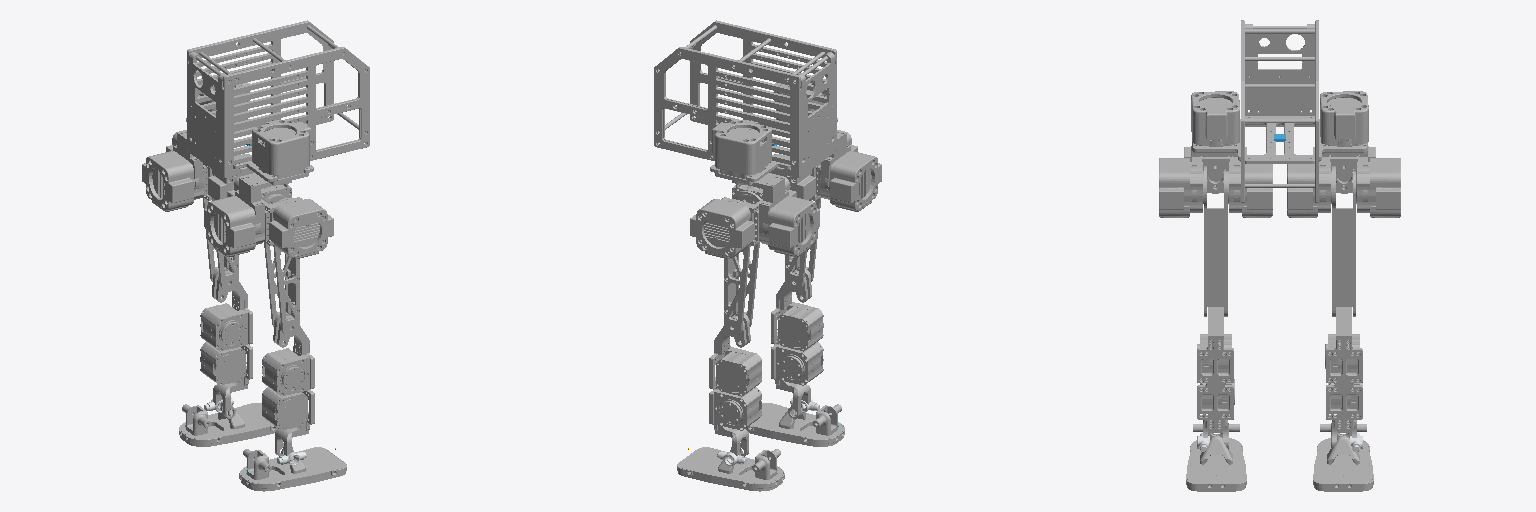
--- Render facts (derived) ---
Views: 3 orthographic renders of the robot side by side, from view 1: azimuth 30°, elevation 25°; view 2: azimuth 150°, elevation 25°; view 3: azimuth 270°, elevation 25°.
Model pai_12dof_v2_0312 with 18 links and 17 joints (10 revolute, 7 fixed), rooted at base_link, posed all joints at 0.
Links seen in each view (by area): view 1: base_link, leg_l4_link, leg_r4_link, leg_r2_link, leg_r1_link, leg_l1_link, r_ankle_roll_link, l_ankle_roll_link, leg_r3_link, leg_l2_link, leg_l3_link; view 2: base_link, leg_r4_link, leg_l4_link, leg_l2_link, leg_l1_link, leg_r1_link, l_ankle_roll_link, r_ankle_roll_link, leg_l3_link, leg_r2_link, leg_r3_link; view 3: base_link, leg_r2_link, leg_l2_link, leg_r4_link, leg_l4_link, r_ankle_roll_link, l_ankle_roll_link, leg_l3_link, leg_r3_link.
Boxes of the visible links, x1=… form: base_link: x1=186, y1=20, x2=369, y2=184; leg_l4_link: x1=200, y1=268, x2=252, y2=418; leg_r4_link: x1=262, y1=313, x2=314, y2=461; leg_r2_link: x1=227, y1=173, x2=333, y2=258; leg_r1_link: x1=204, y1=174, x2=291, y2=256; leg_l1_link: x1=142, y1=131, x2=203, y2=211; r_ankle_roll_link: x1=239, y1=447, x2=346, y2=491; l_ankle_roll_link: x1=179, y1=403, x2=277, y2=446; leg_r3_link: x1=264, y1=195, x2=299, y2=336; leg_l2_link: x1=166, y1=130, x2=254, y2=200; leg_l3_link: x1=202, y1=196, x2=238, y2=291; base_link: x1=654, y1=20, x2=837, y2=184; leg_r4_link: x1=771, y1=268, x2=823, y2=418; leg_l4_link: x1=709, y1=313, x2=761, y2=461; leg_l2_link: x1=690, y1=173, x2=796, y2=258; leg_l1_link: x1=732, y1=174, x2=819, y2=256; leg_r1_link: x1=820, y1=131, x2=881, y2=211; l_ankle_roll_link: x1=677, y1=447, x2=784, y2=491; r_ankle_roll_link: x1=746, y1=403, x2=844, y2=446; leg_l3_link: x1=724, y1=190, x2=761, y2=336; leg_r2_link: x1=769, y1=130, x2=857, y2=200; leg_r3_link: x1=785, y1=196, x2=821, y2=291; base_link: x1=1191, y1=20, x2=1368, y2=202; leg_r2_link: x1=1159, y1=157, x2=1272, y2=217; leg_l2_link: x1=1287, y1=157, x2=1400, y2=217; leg_r4_link: x1=1197, y1=307, x2=1234, y2=448; leg_l4_link: x1=1325, y1=307, x2=1362, y2=448; r_ankle_roll_link: x1=1186, y1=424, x2=1246, y2=491; l_ankle_roll_link: x1=1313, y1=424, x2=1373, y2=491; leg_l3_link: x1=1332, y1=166, x2=1355, y2=316; leg_r3_link: x1=1204, y1=166, x2=1227, y2=316.
Bounding box of the posed robot: 0.23 × 0.283 × 0.5417 m (x, y, z).
13 mesh visuals loaded from 13 distinct referenced files (13 binary STL).

robot.urdf — pai_12dof_v2_0312:
<?xml version="1.0" encoding="utf-8"?>
<!-- This URDF was automatically created by SolidWorks to URDF Exporter! Originally created by Stephen Brawner ([email redacted]) 
     Commit Version: 1.6.0-4-g7f85cfe  Build Version: 1.6.7995.38578
     For more information, please see http://wiki.ros.org/sw_legged_hunter_description_exporter -->
<robot
  name="pai_12dof_v2_0312">

<gazebo>
    <plugin name="gazebo_ros_control" filename="libhunter_bipedal_hw_sim.so">
      <robotNamespace>/</robotNamespace>
      <robotParam>legged_robot_description</robotParam>
      <robotSimType>legged_gazebo/LeggedHWSim</robotSimType>
    </plugin>
  </gazebo>

  <gazebo>
    <plugin filename="libgazebo_ros_p3d.so" name="p3d_base_controller">
      <alwaysOn>true</alwaysOn>
      <updateRate>500.0</updateRate>
      <bodyName>base_link</bodyName>
      <topicName>ground_truth/state</topicName>
      <gaussianNoise>0</gaussianNoise>
      <frameName>world</frameName>
      <xyzOffsets>0 0 0</xyzOffsets>
      <rpyOffsets>0 0 0</rpyOffsets>
    </plugin>
  </gazebo> 

  <link
    name="base_link">
    <inertial>
      <origin
        xyz="0.0080065 -9.1482E-06 0.03546"
        rpy="0 0 0" />
      <mass
        value="1.917" />
      <inertia
        ixx="0.0011037"
        ixy="6.7319E-07"
        ixz="-0.00010863"
        iyy="0.0023344"
        iyz="-1.8481E-06"
        izz="0.0018934" />
    </inertial>
    <visual>
      <origin
        xyz="0 0 0"
        rpy="0 0 0" />
      <geometry>
        <mesh
          filename="package://legged_hunter_description/meshes/base_link.STL" />
      </geometry>
      <material
        name="">
        <color
          rgba="0.75294 0.75294 0.75294 1" />
      </material>
    </visual>
    <collision>
      <origin
        xyz="0.04 0 0.06"
        rpy="0 0 0" />
			<geometry>
				<box size="0.2 0.2 0.12" />
			</geometry>
    </collision>
  </link>


  <joint name="imu_joint" type="fixed">
      <origin rpy="0. 0. 0." xyz="0. 0. 0"/>
      <parent link="base_link"/>
      <child link="imu_link"/>
    </joint>
    <!-- Imu link -->
    <link name="imu_link">
      <inertial>
        <mass value="0.01"/>
        <origin rpy="0 0 0" xyz="0 0 0"/>
        <inertia ixx="0.000001" ixy="0" ixz="0" iyy="0.000001" iyz="0" izz="0.000001"/>
      </inertial>
      <visual>
        <origin rpy="0 0 0" xyz="0 0 0"/>
        <geometry>
          <box size="0.015 0.015 0.004"/>
        </geometry>
      </visual>
      <material name="orange">
        <color rgba="255 108 10 255"/>
      </material>
    </link>
    <gazebo reference="imu_joint">
      <disableFixedJointLumping>true</disableFixedJointLumping>
    </gazebo>

  <!-- ************************************************************ -->
  <!-- ************************ Right Leg ************************** -->
  <!-- ************************************************************ -->

  <link
    name="leg_r1_link">
    <inertial>
      <origin
        xyz="-0.054431 -6.4382E-05 -0.050511"
        rpy="0 0 0" />
      <mass
        value="0.44499" />
      <inertia
        ixx="0.00017459"
        ixy="3.1567E-08"
        ixz="2.4773E-07"
        iyy="0.00010704"
        iyz="-5.5057E-07"
        izz="0.0001117" />
    </inertial>
    <visual>
      <origin
        xyz="0 0 0"
        rpy="0 0 0" />
      <geometry>
        <mesh
          filename="package://legged_hunter_description/meshes/r_kuan_link.STL" />
      </geometry>
      <material
        name="">
        <color
          rgba="0.75294 0.75294 0.75294 1" />
      </material>
    </visual>
    <collision>
      <origin
        xyz="0 0 0"
        rpy="0 0 0" />
			<geometry>
				<box size="0.0001 0.0001 0.0001" />
			</geometry>
    </collision>
  </link>
  <joint
    name="leg_r1_joint"
    type="revolute">
    <origin
      xyz="-0.003125 -0.075 -0.009"
      rpy="0 0 0" />
    <parent
      link="base_link" />
    <child
      link="leg_r1_link" />
    <axis
      xyz="0 0 1" />
    <limit
      lower="-3.14"
      upper="3.14"
      effort="21"
      velocity="21" />
  </joint>

  <link
    name="leg_r2_link">
    <inertial>
      <origin
        xyz="0.03347 2.0605E-11 -0.0002952"
        rpy="0 0 0" />
      <mass
        value="0.81414" />
      <inertia
        ixx="0.00020584"
        ixy="0"
        ixz="0"
        iyy="0.00034095"
        iyz="0"
        izz="0.00020452" />
    </inertial>
    <visual>
      <origin
        xyz="0 0 0"
        rpy="0 0 0" />
      <geometry>
        <mesh
          filename="package://legged_hunter_description/meshes/r_kuan2_link.STL" />
      </geometry>
      <material
        name="">
        <color
          rgba="0.75294 0.75294 0.75294 1" />
      </material>
    </visual>
    <collision>
			<origin xyz="0 0 0" rpy="0 0 0" />
			<geometry>
				<box size="0.0001 0.0001 0.0001" />
			</geometry>
    </collision>
  </link>
  <joint
    name="leg_r2_joint"
    type="revolute">
    <origin
      xyz="-0.035 0 -0.056"
      rpy="0 0 0" />
    <parent
      link="leg_r1_link" />
    <child
      link="leg_r2_link" />
    <axis
      xyz="1 0 0" />
    <limit
      lower="-3.14"
      upper="3.14"
      effort="21"
      velocity="21" />
  </joint>

  <link
    name="leg_r3_link">
    <inertial>
      <origin
        xyz="0.0067676 0.00005 -0.07154"
        rpy="0 0 0" />
      <mass
        value="0.224" />
      <inertia
        ixx="0.0002366"
        ixy="-1.1282E-09"
        ixz="-8.9537E-06"
        iyy="0.000245"
        iyz="2.3544E-08"
        izz="1.0401E-05" />
    </inertial>
    <visual>
      <origin
        xyz="0 -0.014 0"
        rpy="0 0 0" />
      <geometry>
        <mesh
          filename="package://legged_hunter_description/meshes/r_thigh_link.STL" />
      </geometry>
      <material
        name="">
        <color
          rgba="0.75294 0.75294 0.75294 1" />
      </material>
    </visual>
    <collision>
			<origin xyz="0.0 0 -0.05" rpy="0 0 0" />
			<geometry>
				<box size="0.01 0.01 0.09" />
			</geometry>
    </collision>
  </link>
  <joint
    name="leg_r3_joint"
    type="revolute">
    <origin
      xyz="0.035 0 0"
      rpy="0 0 0" />
    <parent
      link="leg_r2_link" />
    <child
      link="leg_r3_link" />
    <axis
      xyz="0 1 0" />
    <limit
      lower="-3.14"
      upper="3.14"
      effort="21"
      velocity="21" />
  </joint>


  <link
    name="leg_r4_link">
    <inertial>
      <origin
        xyz="0.00281593480178935 0 -0.086239436981651"
        rpy="0 0 0" />
      <mass
        value="0.444942664885023" />
      <inertia
        ixx="0.000112968661576375"
        ixy="-6.14771331738193E-12"
        ixz="-7.56107054802247E-07"
        iyy="0.000147776607396975"
        iyz="-3.9796891718758E-08"
        izz="6.80964863575587E-05" />
    </inertial>
    <visual>
      <origin
        xyz="0 0.014 0"
        rpy="0 0 0" />
      <geometry>
        <mesh
          filename="package://legged_hunter_description/meshes/r_calf_link.STL" />
      </geometry>
      <material
        name="">
        <color
          rgba="0.752941176470588 0.752941176470588 0.752941176470588 1" />
      </material>
    </visual>
    <collision>
			<origin xyz="0.00 0.0 -0.05" rpy="0 0 0" />
			<geometry>
				<box size="0.01 0.01 0.09" />
			</geometry>
    </collision>
  </link>
  <joint
    name="leg_r4_joint"
    type="revolute">
    <origin
      xyz="0.0075 0.0 -0.14981"
      rpy="0 0 0" />
    <parent
      link="leg_r3_link" />
    <child
      link="leg_r4_link" />
    <axis
      xyz="0 1 0" />
    <limit
      lower="-3.14"
      upper="3.14"
      effort="21"
      velocity="21" />
  </joint>


  <link
    name="leg_r5_link">
    <inertial>
      <origin
        xyz="-1.6509198083603E-07 -0.0150003545428527 1.04242601217663E-08"
        rpy="0 0 0" />
      <mass
        value="0.00886465357060087" />
      <inertia
        ixx="2.26270093875981E-07"
        ixy="8.25154855032966E-14"
        ixz="-8.86876893021843E-13"
        iyy="1.00364671071319E-06"
        iyz="1.33615017437302E-12"
        izz="9.72625201373387E-07" />
    </inertial>
    <visual>
      <origin
        xyz="0 0 0"
        rpy="0 0 0" />
      <geometry>
        <mesh
          filename="package://legged_hunter_description/meshes/r_ankle_link.STL" />
      </geometry>
      <material
        name="">
        <color
          rgba="0.898039215686275 0.917647058823529 0.929411764705882 1" />
      </material>
    </visual>
    <collision>
			<origin xyz="0.012 0.0 0.0" rpy="0 0 0" />
			<geometry>
				<box size="0.0 0.0 0.0" />
			</geometry>
    </collision>
  </link>
  <joint
    name="leg_r5_joint"
    type="revolute">
    <origin
      xyz="0 0.001 -0.17495"
      rpy="0 0 0" />
    <parent
      link="leg_r4_link" />
    <child
      link="leg_r5_link" />
    <axis
      xyz="0 1 0" />
    <limit
      lower="-3.14"
      upper="3.14"
      effort="21"
      velocity="21" />
  </joint>


  <link
    name="r_ankle_roll_link">
    <inertial>
      <origin
        xyz="0.0053048 -3.1821E-09 -0.020657"
        rpy="0 0 0" />
      <mass
        value="0.198" />
      <inertia
        ixx="6.2298E-05"
        ixy="2.0233E-12"
        ixz="-1.7282E-07"
        iyy="0.00017842"
        iyz="-2.034E-12"
        izz="0.00023475" />
    </inertial>
    <visual>
      <origin
        xyz="0 0 0"
        rpy="0 0 0" />
      <geometry>
        <mesh
          filename="package://legged_hunter_description/meshes/r_foot_link.STL" />
      </geometry>
      <material
        name="">
        <color
          rgba="0.75294 0.75294 0.75294 1" />
      </material>
    </visual>
    <collision>
      <origin
        xyz="0.0075 0 -0.02"
        rpy="0 0 0" />
      <geometry>
				<box size="0.125 0.07 0.02" />
			</geometry>
    </collision>
  </link>
  <joint
    name="r_ankle_roll_joint"
    type="fixed">
    <origin
      xyz="0 0 0"
      rpy="0 0 0" />
    <parent
      link="leg_r5_link" />
    <child
      link="r_ankle_roll_link" />
  </joint>

  <joint name="leg_r5_fixed_1" type="fixed">
    <origin xyz="0.07 0 -0.010" rpy="0 0 0" />
    <parent link="r_ankle_roll_link" />
    <child link="leg_r_f1_link" />
  </joint>
  <link name="leg_r_f1_link">
    <inertial>
      <mass value="0.01" />
      <inertia ixx="0.000001" ixy="0" ixz="0" iyy="0.000001" iyz="0" izz="0.000001" />
    </inertial>
    <visual>
      <origin rpy="0 0 0" xyz="0 0 0"/>
      <geometry>
        <sphere radius="0.001"/>
      </geometry>
    </visual>
    <collision>
      <origin rpy="0 0 0" xyz="0 0 0"/>
      <geometry>
        <sphere radius="0.001"/>
      </geometry>
    </collision>
  </link>

  <joint name="leg_r5_fixed_2" type="fixed">
    <origin xyz="-0.055 0 -0.01" rpy="0 0 0" />
    <parent link="r_ankle_roll_link" />
    <child link="leg_r_f2_link" />
  </joint>
  <link name="leg_r_f2_link">
    <inertial>
      <mass value="0.01" />
      <inertia ixx="0.000001" ixy="0" ixz="0" iyy="0.000001" iyz="0" izz="0.000001" />
    </inertial>
    <visual>
      <origin rpy="0 0 0" xyz="0 0 0"/>
      <geometry>
        <sphere radius="0.001"/>
      </geometry>
    </visual>
    <collision>
      <origin rpy="0 0 0" xyz="0 0 0"/>
      <geometry>
        <sphere radius="0.001"/>
      </geometry>
    </collision>
  </link>

  <gazebo reference="leg_r1_link">
    <mu1>0.6</mu1>
    <mu2>0.6</mu2>
    <self_collide>1</self_collide>
  </gazebo>
  <gazebo reference="leg_r2_link">
    <mu1>0.6</mu1>
    <mu2>0.6</mu2>
    <self_collide>1</self_collide>
  </gazebo>
  <gazebo reference="leg_r3_link">
    <mu1>0.6</mu1>
    <mu2>0.6</mu2>
    <self_collide>1</self_collide>
  </gazebo>
  <gazebo reference="leg_r4_link">
    <mu1>0.6</mu1>
    <mu2>0.6</mu2>
    <self_collide>1</self_collide>
  </gazebo>
  <gazebo reference="leg_r5_link">
    <mu1>0.6</mu1>
    <mu2>0.6</mu2>
    <self_collide>1</self_collide>
  </gazebo>
    <gazebo reference="r_ankle_roll_link">
    <mu1>1.6</mu1>
    <mu2>1.6</mu2>
    <self_collide>1</self_collide>
    <kp value="1000000.0"/>
    <kd value="100.0"/>
    <maxVel>1.0</maxVel>
    <minDepth>0.00</minDepth>
  </gazebo>
  <gazebo reference="leg_r_f1_link">
    <mu1>1.5</mu1>
    <mu2>1.5</mu2>
    <self_collide>1</self_collide>
    <kp value="1000000.0"/>
    <kd value="100.0"/>
    <maxVel>1.0</maxVel>
    <minDepth>0.00</minDepth>
  </gazebo>
  <gazebo reference="leg_r_f2_link">
    <mu1>1.5</mu1>
    <mu2>1.5</mu2>
    <self_collide>1</self_collide>
    <kp value="1000000.0"/>
    <kd value="100.0"/>
    <maxVel>1.0</maxVel>
    <minDepth>0.00</minDepth>
  </gazebo>  

  <transmission name="leg_r1_tran">
    <type>transmission_interface/SimpleTransmission</type>
    <joint name="leg_r1_joint">
      <hardwareInterface>hardware_interface/EffortJointInterface</hardwareInterface>
    </joint>
    <actuator name="leg_r1_motor">
      <hardwareInterface>hardware_interface/EffortJointInterface</hardwareInterface>
      <mechanicalReduction>1</mechanicalReduction>
      	  <maxVelocity>1.484</maxVelocity><!-- 85rpm -->
	<maxEffort>36.0</maxEffort><!-- 36Nm -->
    </actuator>
  </transmission>

  <transmission name="leg_r2_tran">
    <type>transmission_interface/SimpleTransmission</type>
    <joint name="leg_r2_joint">
      <hardwareInterface>hardware_interface/EffortJointInterface</hardwareInterface>
    </joint>
    <actuator name="leg_r2_motor">
      <hardwareInterface>hardware_interface/EffortJointInterface</hardwareInterface>
      <mechanicalReduction>1</mechanicalReduction>
      	  <maxVelocity>2.6545</maxVelocity><!-- 160rpm -->
	  <maxEffort>94.0</maxEffort><!-- 94Nm -->
    </actuator>
  </transmission>

    <transmission name="leg_r3_tran">
    <type>transmission_interface/SimpleTransmission</type>
    <joint name="leg_r3_joint">
      <hardwareInterface>hardware_interface/EffortJointInterface</hardwareInterface>
    </joint>
    <actuator name="leg_r3_motor">
      <hardwareInterface>hardware_interface/EffortJointInterface</hardwareInterface>
      <mechanicalReduction>1</mechanicalReduction>
      	  <maxVelocity>2.6545</maxVelocity><!-- 160rpm -->
	  <maxEffort>94.0</maxEffort><!-- 94Nm -->
    </actuator>
  </transmission>

  <transmission name="leg_r4_tran">
    <type>transmission_interface/SimpleTransmission</type>
    <joint name="leg_r4_joint">
      <hardwareInterface>hardware_interface/EffortJointInterface</hardwareInterface>
    </joint>
    <actuator name="leg_r4_motor">
      <hardwareInterface>hardware_interface/EffortJointInterface</hardwareInterface>
      <mechanicalReduction>1</mechanicalReduction>
      	  <maxVelocity>1.484</maxVelocity><!-- 85rpm -->
	<maxEffort>36.0</maxEffort><!-- 36Nm -->
    </actuator>
  </transmission> 

  <transmission name="leg_r5_tran">
    <type>transmission_interface/SimpleTransmission</type>
    <joint name="leg_r5_joint">
      <hardwareInterface>hardware_interface/EffortJointInterface</hardwareInterface>
    </joint>
    <actuator name="leg_r5_motor">
      <hardwareInterface>hardware_interface/EffortJointInterface</hardwareInterface>
      <mechanicalReduction>1</mechanicalReduction>
    </actuator>
  </transmission>

  <!-- ************************************************************ -->
  <!-- ************************ Left Leg ************************** -->
  <!-- ************************************************************ -->  

  <link
    name="leg_l1_link">
    <inertial>
      <origin
        xyz="-0.0544310574714842 -6.43821739947786E-05 -0.0505108585839627"
        rpy="0 0 0" />
      <mass
        value="0.444991449767726" />
      <inertia
        ixx="0.000174594670384385"
        ixy="3.15673595832876E-08"
        ixz="2.47734615065989E-07"
        iyy="0.000107039429721536"
        iyz="-5.50574561862803E-07"
        izz="0.000111702464628443" />
    </inertial>
    <visual>
      <origin
        xyz="0 0 0"
        rpy="0 0 0" />
      <geometry>
        <mesh
          filename="package://legged_hunter_description/meshes/l_kuan_link.STL" />
      </geometry>
      <material
        name="">
        <color
          rgba="0.752941176470588 0.752941176470588 0.752941176470588 1" />
      </material>
    </visual>
    <collision>
			<origin rpy="0 0 0" xyz="0 0 0" />
			<geometry>
				<box size="0.0001 0.0001 0.0001" />
			</geometry>
    </collision>
  </link>
  <joint
    name="leg_l1_joint"
    type="revolute">
    <origin
      xyz="-0.003125 0.075 -0.009"
      rpy="0 0 0" />
    <parent
      link="base_link" />
    <child
      link="leg_l1_link" />
    <axis
      xyz="0 0 1" />
    <limit
      lower="-3.14"
      upper="3.14"
      effort="21"
      velocity="21" />
  </joint>


  <link
    name="leg_l2_link">
    <inertial>
      <origin
        xyz="0.03347 2.0605E-11 -0.0002952"
        rpy="0 0 0" />
      <mass
        value="0.81414" />
      <inertia
        ixx="0.00020584"
        ixy="1.0943E-12"
        ixz="4.8574E-08"
        iyy="0.00034095"
        iyz="-6.3036E-08"
        izz="0.00020452" />
    </inertial>
    <visual>
      <origin
        xyz="0 0 0"
        rpy="0 0 0" />
      <geometry>
        <mesh
          filename="package://legged_hunter_description/meshes/l_kuan2_link.STL" />
      </geometry>
      <material
        name="">
        <color
          rgba="0.75294 0.75294 0.75294 1" />
      </material>
    </visual>
    <collision>
			<origin xyz="0 0 0" rpy="0 0 0" />
			<geometry>
				<box size="0.0001 0.0001 0.0001" />
			</geometry>
    </collision>
  </link>
  <joint
    name="leg_l2_joint"
    type="revolute">
    <origin
      xyz="-0.035 0 -0.056"
      rpy="0 0 0" />
    <parent
      link="leg_l1_link" />
    <child
      link="leg_l2_link" />
    <axis
      xyz="1 0 0" />
    <limit
      lower="-3.14"
      upper="3.14"
      effort="21"
      velocity="21" />
  </joint>


  <link
    name="leg_l3_link">
    <inertial>
      <origin
        xyz="0.0067676 0.00105 -0.07154"
        rpy="0 0 0" />
      <mass
        value="0.224" />
      <inertia
        ixx="0.0002366"
        ixy="-1.1282E-09"
        ixz="-8.9537E-06"
        iyy="0.000245"
        iyz="2.3544E-08"
        izz="1.0401E-05" />
    </inertial>
    <visual>
      <origin
        xyz="0 0.014 0"
        rpy="0 0 0" />
      <geometry>
        <mesh
          filename="package://legged_hunter_description/meshes/l_thigh_link.STL" />
      </geometry>
      <material
        name="">
        <color
          rgba="0.75294 0.75294 0.75294 1" />
      </material>
    </visual>
    <collision>
			<origin xyz="0.00 0 -0.05" rpy="0 0 0" />
            <geometry>
                <box size="0.01 0.01 0.09" />
            </geometry>
    </collision>
  </link>
  <joint
    name="leg_l3_joint"
    type="revolute">
    <origin
      xyz="0.035 0 0"
      rpy="0 0 0" />
    <parent
      link="leg_l2_link" />
    <child
      link="leg_l3_link" />
    <axis
      xyz="0 1 0" />
    <limit
      lower="-3.14"
      upper="3.14"
      effort="21"
      velocity="21" />
  </joint>


  <link
    name="leg_l4_link">
    <inertial>
      <origin
        xyz="0.0028159 0 -0.086239"
        rpy="0 0 0" />
      <mass
        value="0.538" />
      <inertia
        ixx="0.00011297"
        ixy="-6.1477E-12"
        ixz="-7.5611E-07"
        iyy="0.00014778"
        iyz="-3.9797E-08"
        izz="6.8096E-05" />
    </inertial>
    <visual>
      <origin
        xyz="0 -0.014 0"
        rpy="0 0 0" />
      <geometry>
        <mesh
          filename="package://legged_hunter_description/meshes/l_calf_link.STL" />
      </geometry>
      <material
        name="">
        <color
          rgba="0.75294 0.75294 0.75294 1" />
      </material>
    </visual>
    <collision>
			<origin xyz="0.0 0.0 -0.05" rpy="0 0 0" />
			<geometry>
				<box size="0.01 0.01 0.09" />
			</geometry>
    </collision>
  </link>
  <joint
    name="leg_l4_joint"
    type="revolute">
    <origin
      xyz="0.0075 0 -0.14981"
      rpy="0 0 0" />
    <parent
      link="leg_l3_link" />
    <child
      link="leg_l4_link" />
    <axis
      xyz="0 1 0" />
    <limit
      lower="-3.14"
      upper="3.14"
      effort="21"
      velocity="21" />
  </joint>

  <link
    name="leg_l5_link">
    <inertial>
      <origin
        xyz="-1.6509E-07 0.015 1.0424E-08"
        rpy="0 0 0" />
      <mass
        value="0.0088647" />
      <inertia
        ixx="2.2627E-07"
        ixy="8.2515E-14"
        ixz="-8.8688E-13"
        iyy="1.0036E-06"
        iyz="1.3362E-12"
        izz="9.7263E-07" />
    </inertial>
    <visual>
      <origin
        xyz="0 0 0"
        rpy="0 0 0" />
      <geometry>
        <mesh
          filename="package://legged_hunter_description/meshes/l_ankle_link.STL" />
      </geometry>
      <material
        name="">
        <color
          rgba="0.89804 0.91765 0.92941 1" />
      </material>
    </visual>
    <collision>
			<origin xyz="0.012 0.0 0.0" rpy="0 0 0" />
      <geometry>
        <box size="0.00 0.00 0.00" />
      </geometry>
    </collision>
  </link>
  <joint
    name="leg_l5_joint"
    type="revolute">
    <origin
      xyz="0 -0.001 -0.17495"
      rpy="0 0 0" />
    <parent
      link="leg_l4_link" />
    <child
      link="leg_l5_link" />
    <axis
      xyz="0 1 0" />
    <limit
      lower="-3.14"
      upper="3.14"
      effort="21"
      velocity="21" />
  </joint>

  <link
    name="l_ankle_roll_link">
    <inertial>
      <origin
        xyz="0.0053048 -3.1793E-09 -0.020657"
        rpy="0 0 0" />
      <mass
        value="0.198" />
      <inertia
        ixx="6.2298E-05"
        ixy="2.0201E-12"
        ixz="-1.7282E-07"
        iyy="0.00017842"
        iyz="-2.0241E-12"
        izz="0.00023475" />
    </inertial>
    <visual>
      <origin
        xyz="0 0 0"
        rpy="0 0 0" />
      <geometry>
        <mesh
          filename="package://legged_hunter_description/meshes/l_foot_link.STL" />
      </geometry>
      <material
        name="">
        <color
          rgba="0.75294 0.75294 0.75294 1" />
      </material>
    </visual>
    <collision>
      <origin
        xyz="0.0075 0 -0.02"
        rpy="0 0 0" />
      <geometry>
				<box size="0.125 0.07 0.02" />
			</geometry>
    </collision>
  </link>
  <joint
    name="l_ankle_roll_joint"
    type="fixed">
    <origin
      xyz="0 0 0"
      rpy="0 0 0" />
    <parent
      link="leg_l5_link" />
    <child
      link="l_ankle_roll_link" />
  </joint>

   <joint name="leg_l5_fixed_1" type="fixed">
    <origin xyz="0.07 0 -0.010" rpy="0 0 0" />
    <parent link="l_ankle_roll_link" />
    <child link="leg_l_f1_link" />
  </joint>
  <link name="leg_l_f1_link">
    <inertial>
      <mass value="0.01" />
      <inertia ixx="0.000001" ixy="0" ixz="0" iyy="0.000001" iyz="0" izz="0.000001" />
    </inertial>
    <visual>
      <origin rpy="0 0 0" xyz="0 0 0"/>
      <geometry>
        <sphere radius="0.001"/>
      </geometry>
    </visual>
    <collision>
      <origin rpy="0 0 0" xyz="0 0 0"/>
      <geometry>
        <sphere radius="0.001"/>
      </geometry>
    </collision>
  </link>

  <joint name="leg_l5_fixed_2" type="fixed">
    <origin xyz="-0.055 0 -0.01" rpy="0 0 0" />
    <parent link="l_ankle_roll_link" />
    <child link="leg_l_f2_link" />
  </joint>
  <link name="leg_l_f2_link">
    <inertial>
      <mass value="0.01" />
      <inertia ixx="0.000001" ixy="0" ixz="0" iyy="0.000001" iyz="0" izz="0.000001" />
    </inertial>
    <visual>
      <origin rpy="0 0 0" xyz="0 0 0"/>
      <geometry>
        <sphere radius="0.001"/>
      </geometry>
    </visual>
    <collision>
      <origin rpy="0 0 0" xyz="-0 0 0"/>
      <geometry>
        <sphere radius="0.001"/>
      </geometry>
    </collision>
  </link>

<gazebo reference="leg_l1_link">
    <mu1>0.6</mu1>
    <mu2>0.6</mu2>
    <self_collide>1</self_collide>
  </gazebo>
  <gazebo reference="leg_l2_link">
    <mu1>0.6</mu1>
    <mu2>0.6</mu2>
    <self_collide>1</self_collide>
  </gazebo>
  <gazebo reference="leg_l3_link">
    <mu1>0.6</mu1>
    <mu2>0.6</mu2>
    <self_collide>1</self_collide>
  </gazebo>
  <gazebo reference="leg_l4_link">
    <mu1>0.6</mu1>
    <mu2>0.6</mu2>
    <self_collide>1</self_collide>
  </gazebo>
  <gazebo reference="leg_l5_link">
    <mu1>0.6</mu1>
    <mu2>0.6</mu2>
    <self_collide>1</self_collide>
  </gazebo>
    <gazebo reference="l_ankle_roll_link">
    <mu1>1.6</mu1>
    <mu2>1.6</mu2>
    <self_collide>1</self_collide>
    <kp value="1000000.0"/>
    <kd value="100.0"/>
    <maxVel>1.0</maxVel>
    <minDepth>0.00</minDepth>
  </gazebo>
  <gazebo reference="leg_l_f1_link">
    <mu1>1.5</mu1>
    <mu2>1.5</mu2>
    <self_collide>1</self_collide>
    <kp value="1000000.0"/>
    <kd value="100.0"/>
    <maxVel>1.0</maxVel>
    <minDepth>0.00</minDepth>
  </gazebo>
  <gazebo reference="leg_l_f2_link">
    <mu1>1.5</mu1>
    <mu2>1.5</mu2>
    <self_collide>1</self_collide>
    <kp value="1000000.0"/>
    <kd value="100.0"/>
    <maxVel>1.0</maxVel>
    <minDepth>0.00</minDepth>
  </gazebo>

<transmission name="leg_l1_tran">
    <type>transmission_interface/SimpleTransmission</type>
    <joint name="leg_l1_joint">
      <hardwareInterface>hardware_interface/EffortJointInterface</hardwareInterface>
    </joint>
    <actuator name="leg_l1_motor">
      <hardwareInterface>hardware_interface/EffortJointInterface</hardwareInterface>
      <mechanicalReduction>1</mechanicalReduction>
    <maxVelocity>1.484</maxVelocity><!-- 85rpm -->
	  <maxEffort>36.0</maxEffort><!-- 36Nm -->
    </actuator>
  </transmission>

  <transmission name="leg_l2_tran">
    <type>transmission_interface/SimpleTransmission</type>
    <joint name="leg_l2_joint">
      <hardwareInterface>hardware_interface/EffortJointInterface</hardwareInterface>
    </joint>
    <actuator name="leg_l2_motor">
      <hardwareInterface>hardware_interface/EffortJointInterface</hardwareInterface>
      <mechanicalReduction>1</mechanicalReduction>
    <maxVelocity>2.6545</maxVelocity><!-- 160rpm -->
	  <maxEffort>94.0</maxEffort><!-- 94Nm -->
    </actuator>
  </transmission>

  <transmission name="leg_l3_tran">
    <type>transmission_interface/SimpleTransmission</type>
    <joint name="leg_l3_joint">
      <hardwareInterface>hardware_interface/EffortJointInterface</hardwareInterface>
    </joint>
    <actuator name="leg_l3_motor">
      <hardwareInterface>hardware_interface/EffortJointInterface</hardwareInterface>
      <mechanicalReduction>1</mechanicalReduction>
    <maxVelocity>2.6545</maxVelocity><!-- 160rpm -->
	  <maxEffort>94.0</maxEffort><!-- 94Nm -->
    </actuator>
  </transmission>

  <transmission name="leg_l4_tran">
    <type>transmission_interface/SimpleTransmission</type>
    <joint name="leg_l4_joint">
      <hardwareInterface>hardware_interface/EffortJointInterface</hardwareInterface>
    </joint>
    <actuator name="leg_l4_motor">
      <hardwareInterface>hardware_interface/EffortJointInterface</hardwareInterface>
      <mechanicalReduction>1</mechanicalReduction>
    <maxVelocity>1.484</maxVelocity><!-- 85rpm -->
	<maxEffort>36.0</maxEffort><!-- 36Nm -->
    </actuator>
  </transmission>

  <transmission name="leg_l5_tran">
    <type>transmission_interface/SimpleTransmission</type>
    <joint name="leg_l5_joint">
      <hardwareInterface>hardware_interface/EffortJointInterface</hardwareInterface>
    </joint>
    <actuator name="leg_l5_motor">
      <hardwareInterface>hardware_interface/EffortJointInterface</hardwareInterface>
      <mechanicalReduction>1</mechanicalReduction>
    </actuator>
  </transmission>

</robot>
